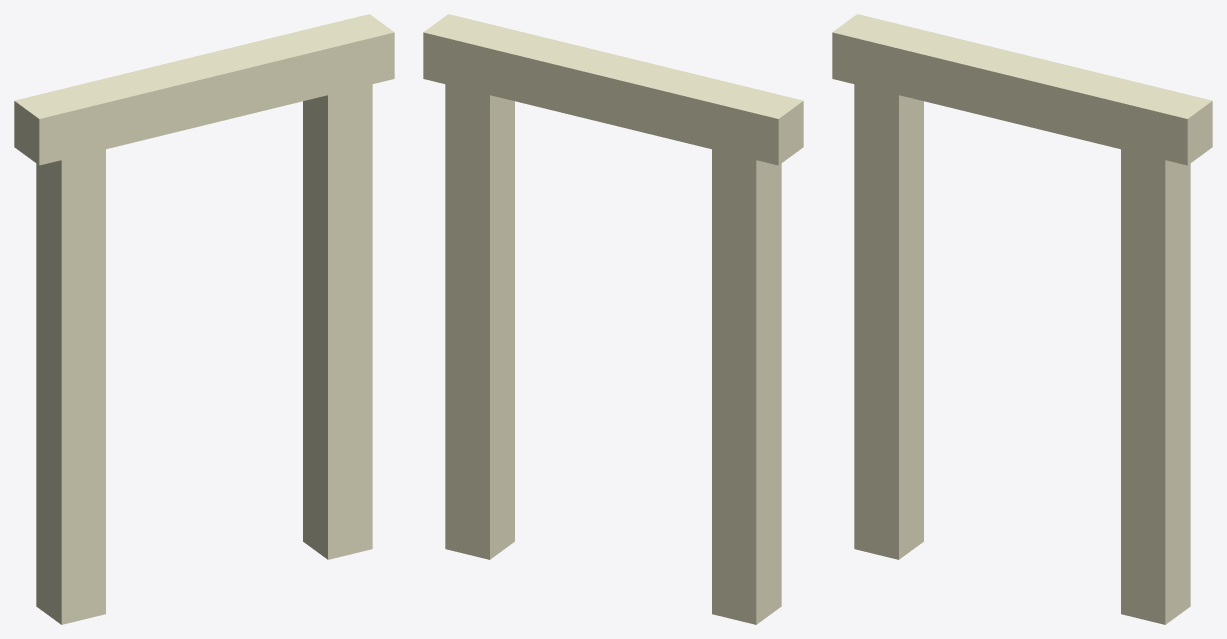
Rendered from Door_Frame.glb.
The picture shows the model from 3 angles, left to right: view 1: azimuth 30°, elevation 25°; view 2: azimuth 150°, elevation 25°; view 3: azimuth 330°, elevation 25°; orthographic projection.
Visible parts, largest first — view 1: Door Frame; view 2: Door Frame; view 3: Door Frame.
Boxes of the visible parts, x1,y1,x2,y2 form: Door Frame: (14,14,394,624); Door Frame: (423,14,803,624); Door Frame: (832,14,1212,624).
Bounding box in the file's own units: 1.63 × 2.24 × 0.2.
